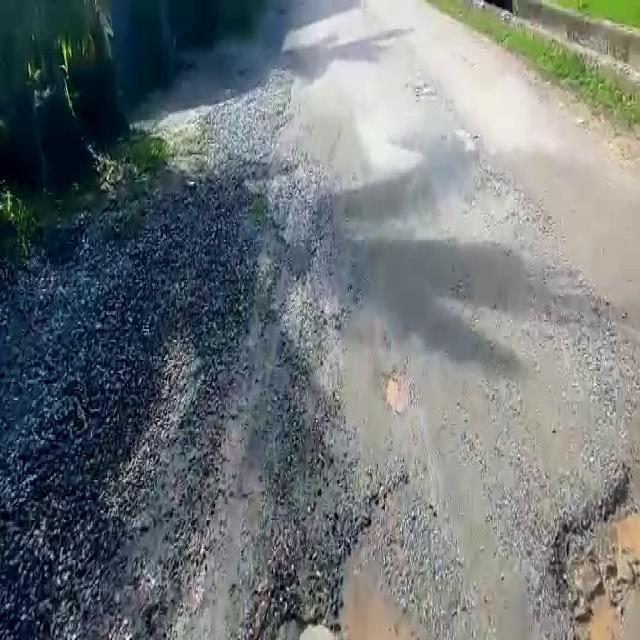pothole: (545, 467, 640, 637), (332, 554, 416, 640)
